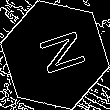N_W: (25, 28, 85, 82)
